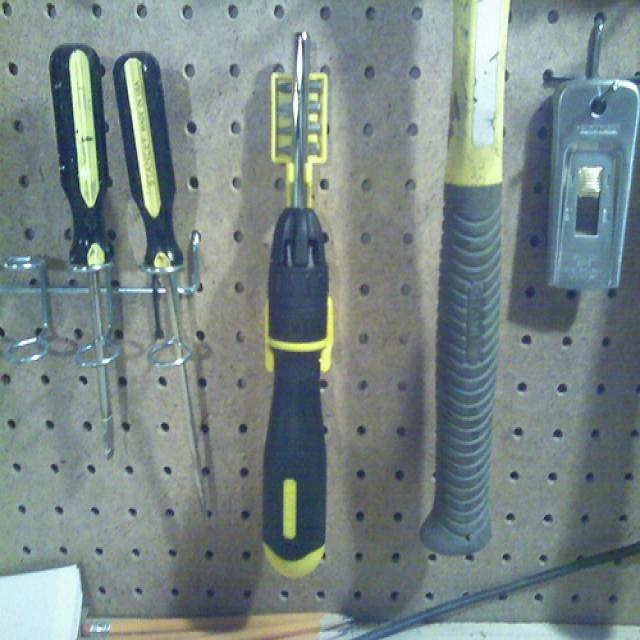screwdriver: (103, 33, 230, 521), (251, 8, 344, 592), (42, 25, 130, 489)
